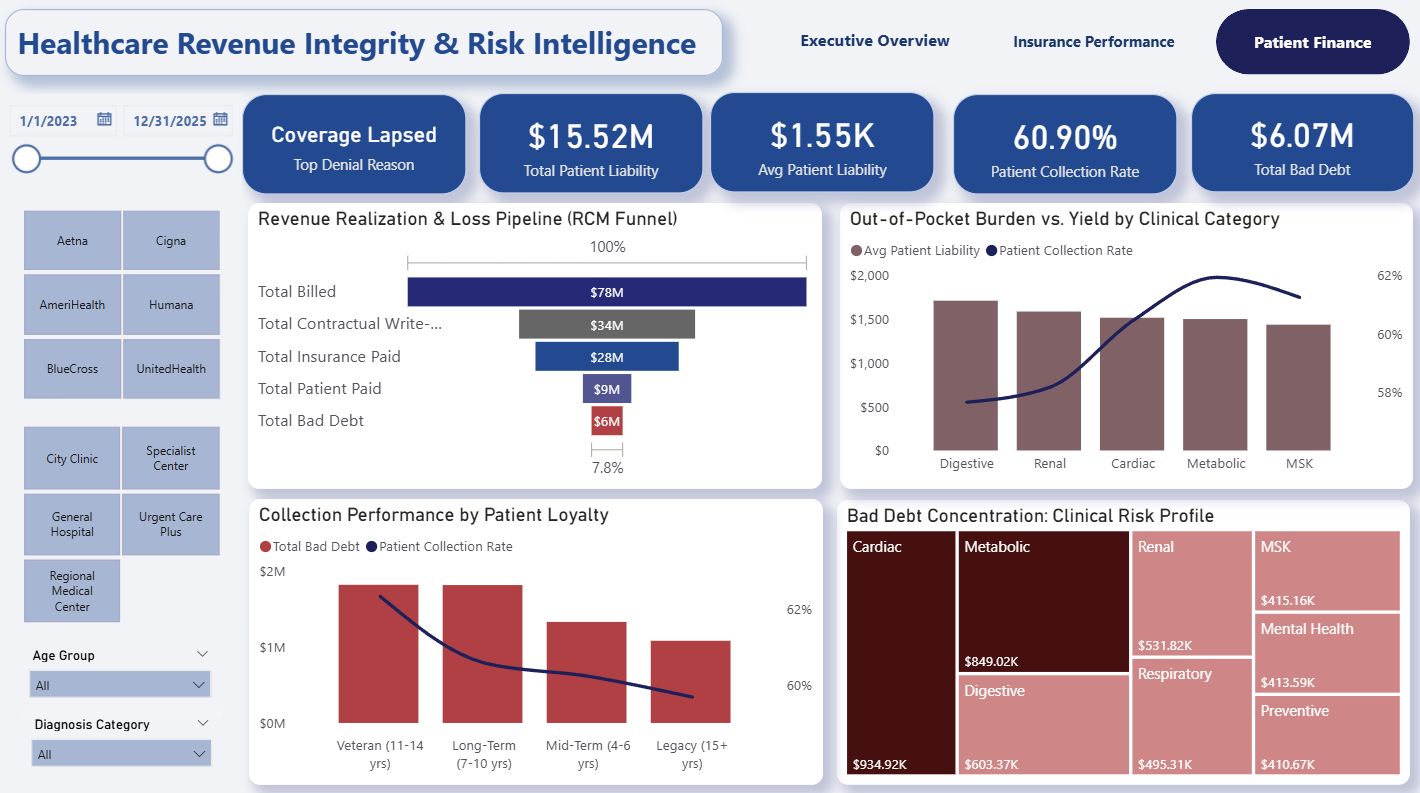

Layout of this report page (visuals, bound fields, positions):
{"tool":"powerbi","page":{"name":"Patient Finance","canvas":[1280,720],"ordinal":2},"visuals":[{"type":"actionButton","box":[701.9,11,172.4,59.9],"z":0},{"type":"actionButton","box":[897.6,12.2,173.6,59.9],"z":1000},{"type":"actionButton","box":[1093.2,13.5,173.6,58.7],"z":2000},{"type":"textbox","box":[9,13.4,643,60],"z":3000},{"type":"card","fields":{"Values":["_Measures.Patient Collection Rate"]},"box":[858.2,89.8,200.9,89.8],"z":4000},{"type":"card","fields":{"Values":["_Measures.Top Denial Reason"]},"box":[220.9,89.8,200.9,89.8],"z":5000},{"type":"card","fields":{"Values":["_Measures.Total Patient Liability"]},"box":[433.3,88.6,200.9,89.8],"z":6000},{"type":"slicer","fields":{"Values":["Fact_Claims.Payer"]},"box":[0,187,225,182],"z":7000},{"type":"slicer","fields":{"Values":["Fact_Claims.Provider"]},"box":[0,380.9,224.6,188.6],"z":8000},{"type":"slicer","fields":{"Values":["Dim_Patients.Age Group"]},"box":[20.7,580.3,183.2,68.3],"z":9000},{"type":"treemap","title":"Bad Debt Concentration: Clinical Risk Profile","fields":{"Group":["dim_diagnosis.Category"],"Values":["_Measures.Total Bad Debt"]},"box":[754.2,452.9,513.2,254.6],"z":10000},{"type":"slicer","fields":{"Values":["Fact_Claims.Service_Date"]},"box":[0,89.3,221.3,97.8],"z":11000},{"type":"lineStackedColumnComboChart","title":"Out-of-Pocket Burden vs. Yield by Clinical Category","fields":{"Category":["dim_diagnosis.Category"],"Y2":["_Measures.Patient Collection Rate"],"Y":["_Measures.Avg Patient Liability"]},"box":[757.1,187.6,513.2,255.6],"z":12000},{"type":"funnel","title":"Revenue Realization & Loss Pipeline (RCM Funnel)","fields":{"Y":["_Measures.Total Billed","_Measures.Total Contractual Write-Offs","_Measures.Total Insurance Paid","_Measures.Total Patient Paid","_Measures.Total Bad Debt"]},"box":[226.5,187.6,514.1,255.6],"z":13000},{"type":"lineClusteredColumnComboChart","title":"Collection Performance by Patient Loyalty","fields":{"Y":["_Measures.Total Bad Debt"],"Y2":["_Measures.Patient Collection Rate"],"Category":["Dim_Patients.Tenure Group"]},"box":[227.4,452.4,513.6,255.6],"z":14000},{"type":"card","fields":{"Values":["_Measures.Avg Patient Liability"]},"box":[640,87.5,201.4,89.8],"z":15000},{"type":"card","fields":{"Values":["_Measures.Total Bad Debt"]},"box":[1070.6,88.6,199.6,88.6],"z":16000},{"type":"slicer","fields":{"Values":["dim_diagnosis.Category"]},"box":[22,642,182,66],"z":17001}]}

Visuals, with their boxes in screenshot pixels (x1, y1, x2, y2), scaled from the page's 1280x720 canvas onto the 1420x793 screenshot:
actionButton: [779, 12, 970, 78]
actionButton: [996, 13, 1188, 79]
actionButton: [1213, 15, 1405, 80]
textbox: [10, 15, 723, 81]
card - _Measures.Patient Collection Rate: [952, 99, 1175, 198]
card - _Measures.Top Denial Reason: [245, 99, 468, 198]
card - _Measures.Total Patient Liability: [481, 98, 704, 196]
slicer - Fact_Claims.Payer: [0, 206, 250, 406]
slicer - Fact_Claims.Provider: [0, 420, 249, 627]
slicer - Dim_Patients.Age Group: [23, 639, 226, 714]
"Bad Debt Concentration: Clinical Risk Profile" treemap: [837, 499, 1406, 779]
slicer - Fact_Claims.Service_Date: [0, 98, 246, 206]
"Out-of-Pocket Burden vs. Yield by Clinical Category" lineStackedColumnComboChart: [840, 207, 1409, 488]
"Revenue Realization & Loss Pipeline (RCM Funnel)" funnel: [251, 207, 822, 488]
"Collection Performance by Patient Loyalty" lineClusteredColumnComboChart: [252, 498, 822, 780]
card - _Measures.Avg Patient Liability: [710, 96, 933, 195]
card - _Measures.Total Bad Debt: [1188, 98, 1409, 195]
slicer - dim_diagnosis.Category: [24, 707, 226, 780]
